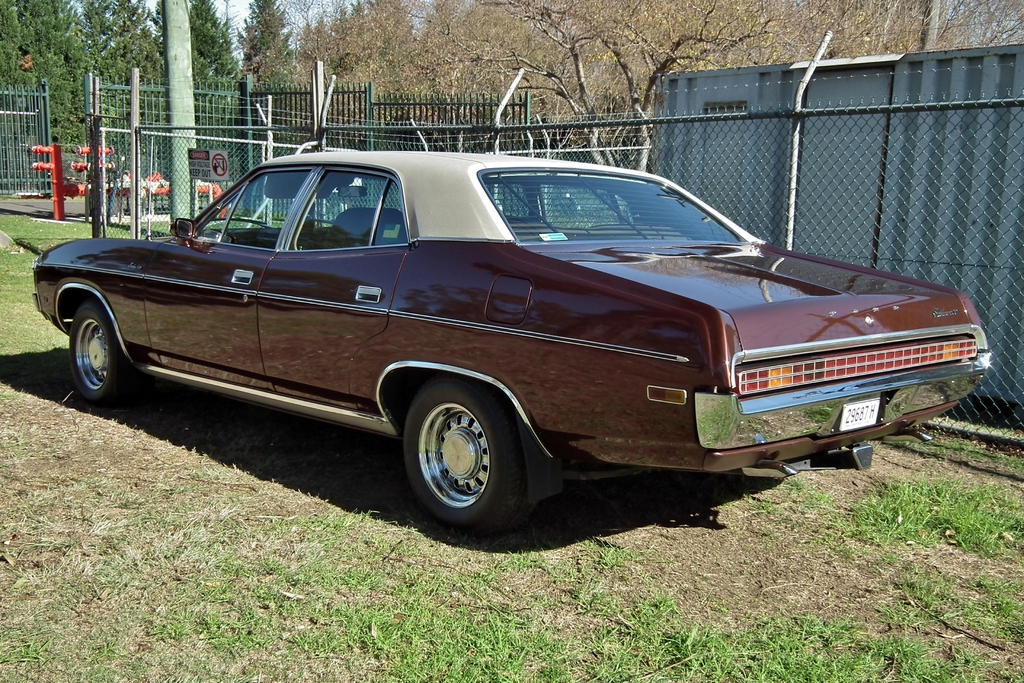cars: (33, 146, 991, 535)
